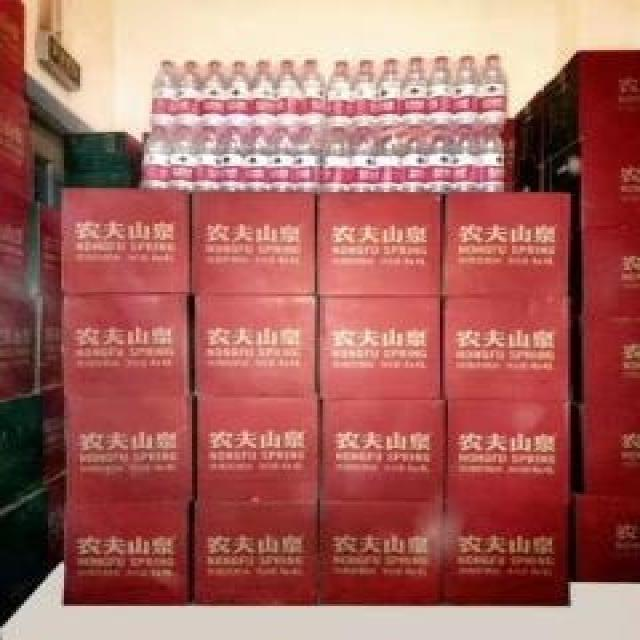box: (189, 190, 317, 296), (443, 192, 571, 296), (61, 188, 189, 292), (64, 396, 192, 500), (61, 500, 189, 604), (189, 500, 317, 604), (317, 192, 443, 296), (445, 502, 571, 606), (195, 396, 320, 500), (320, 502, 445, 606), (317, 298, 443, 400), (445, 400, 571, 502), (61, 294, 189, 394), (317, 400, 445, 500), (443, 296, 568, 398), (192, 296, 317, 398), (544, 50, 640, 164), (544, 134, 640, 230), (573, 492, 640, 582), (581, 402, 640, 492), (581, 228, 640, 316), (581, 316, 640, 402), (64, 134, 141, 186)
